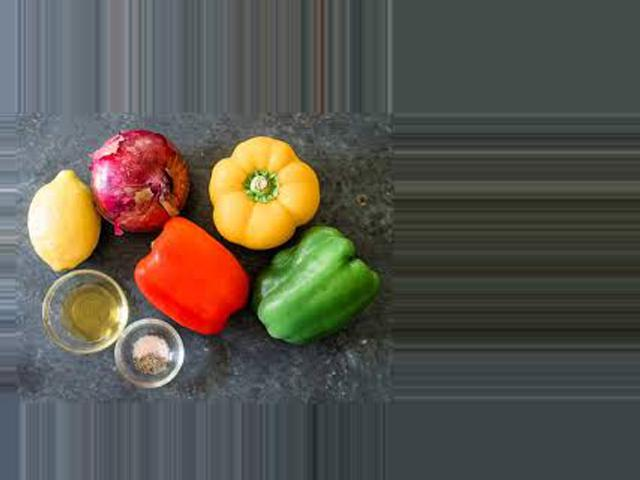bell_pepper: (134, 213, 246, 337)
